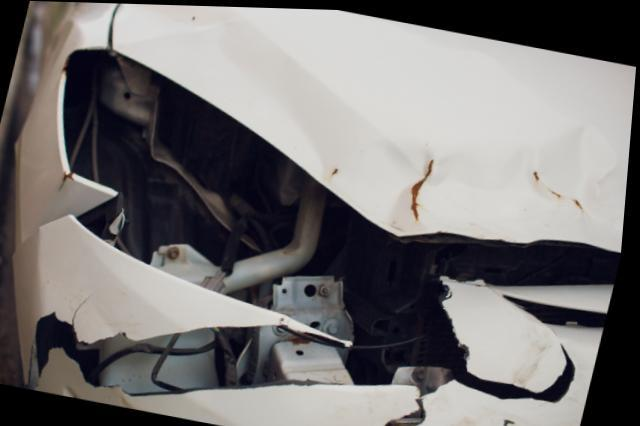crack: (31, 275, 582, 426)
dent: (362, 124, 631, 250)
no part: (66, 48, 400, 344)
